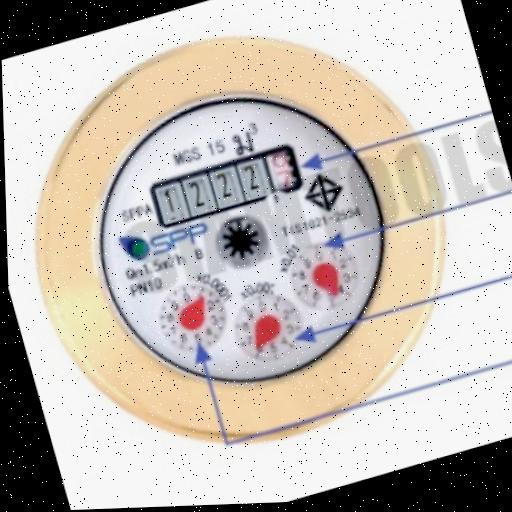1: (158, 186, 183, 223)
2: (186, 179, 211, 215), (241, 163, 266, 199), (214, 169, 238, 206)
6: (268, 150, 296, 191)
border_water_meter_number: (146, 141, 308, 232)
